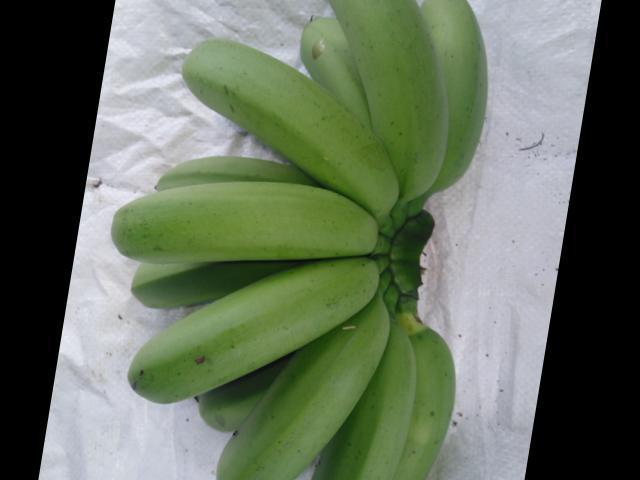freshunripe: (171, 37, 402, 207), (209, 301, 398, 479), (96, 175, 396, 277), (332, 2, 455, 195), (336, 324, 457, 479)
unripe: (104, 263, 378, 403)
